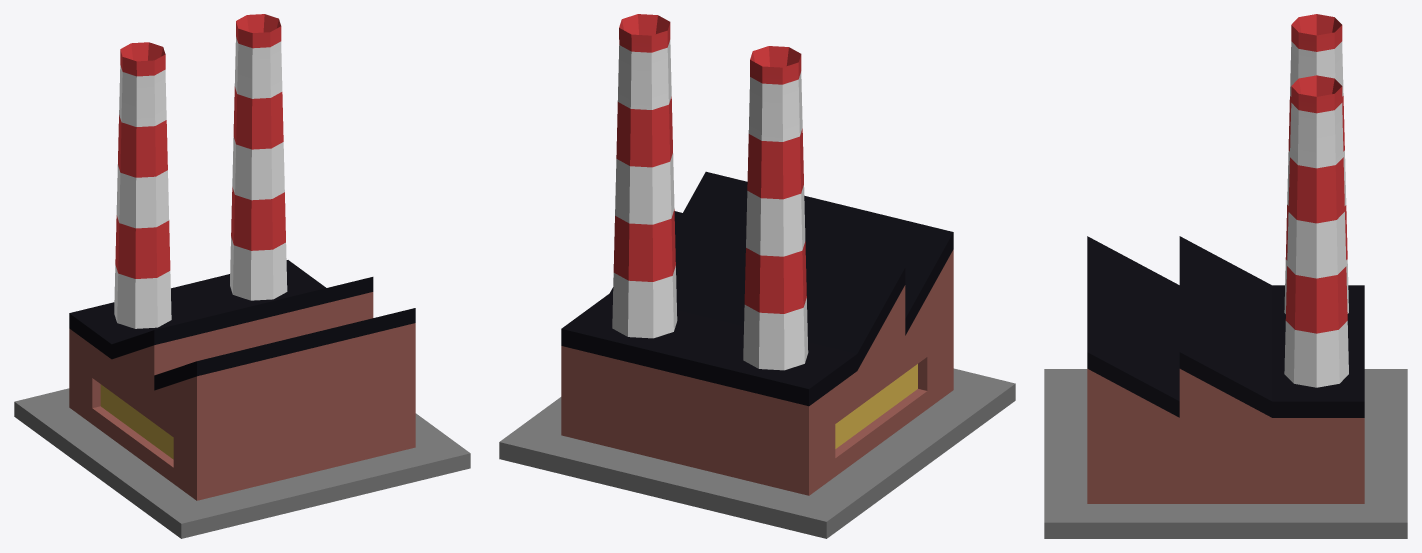
File: FactoryTier2 1.fbx
The picture shows the model from 3 angles, left to right: view 1: azimuth 30°, elevation 25°; view 2: azimuth 150°, elevation 25°; view 3: azimuth 270°, elevation 25°; orthographic projection. The views are drawn at different scales.
Parts seen in each view (by area): view 1: Cylinder.005; view 2: Cylinder.005; view 3: Cylinder.005.
Boxes of the visible parts, x1=… form: Cylinder.005: x1=14, y1=14, x2=470, y2=538; Cylinder.005: x1=499, y1=14, x2=1015, y2=538; Cylinder.005: x1=1044, y1=14, x2=1407, y2=538.
Size of the model in its own units: 2000 by 2473 by 2000.
